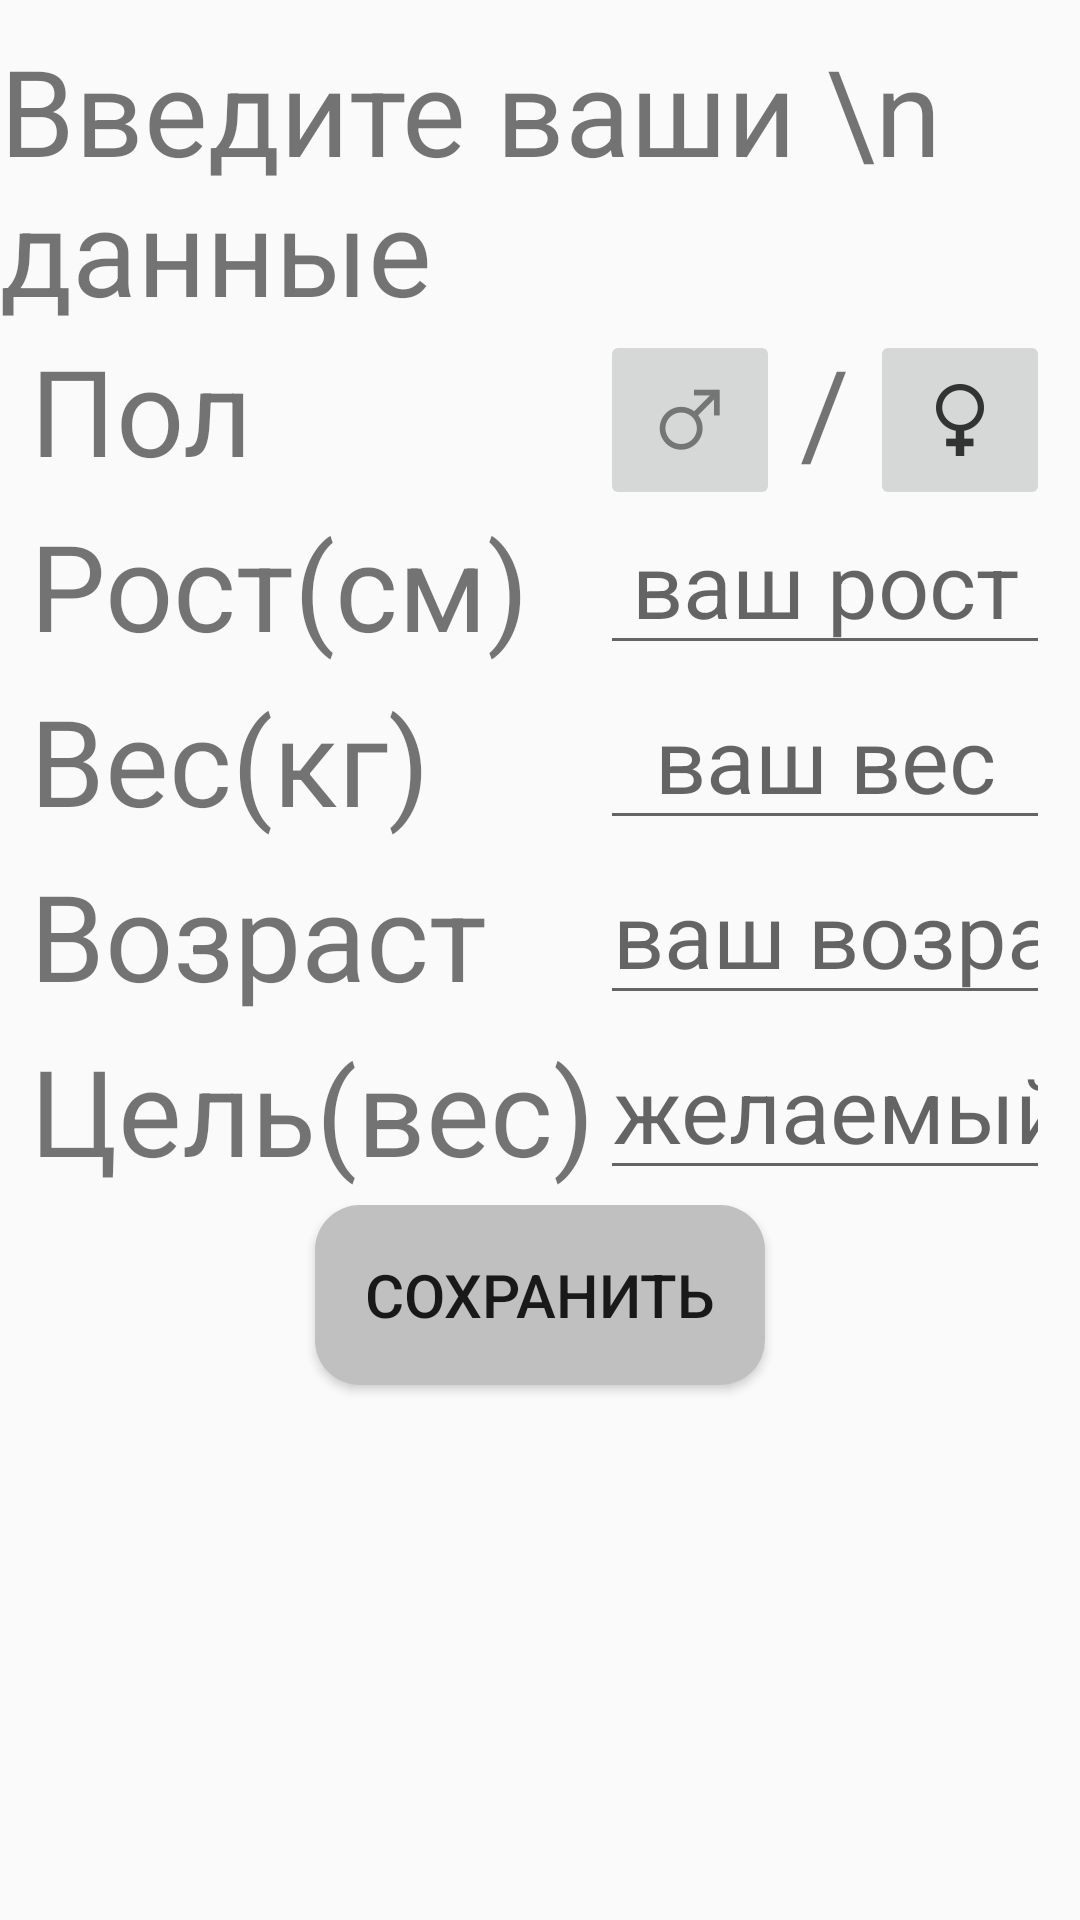

Icon click points for this 1080*1920 phone screenshot, format [x,y]:
men: [690,420]
women: [960,420]
